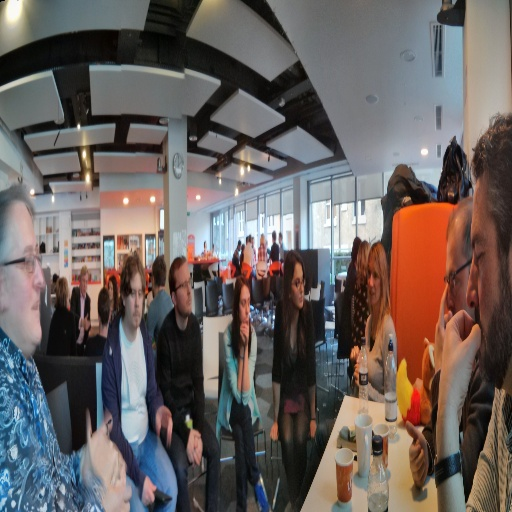hand: (432, 295, 483, 486), (405, 419, 428, 490), (102, 459, 133, 511), (434, 285, 453, 368), (153, 403, 173, 446), (138, 473, 156, 507), (186, 426, 199, 469), (193, 436, 202, 466), (239, 316, 248, 345), (268, 422, 278, 444), (352, 358, 358, 391), (83, 310, 91, 333), (309, 419, 317, 441), (238, 325, 245, 346), (350, 345, 358, 359)
